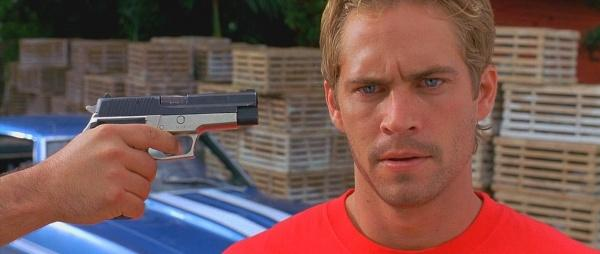Gun: (85, 88, 259, 162)
